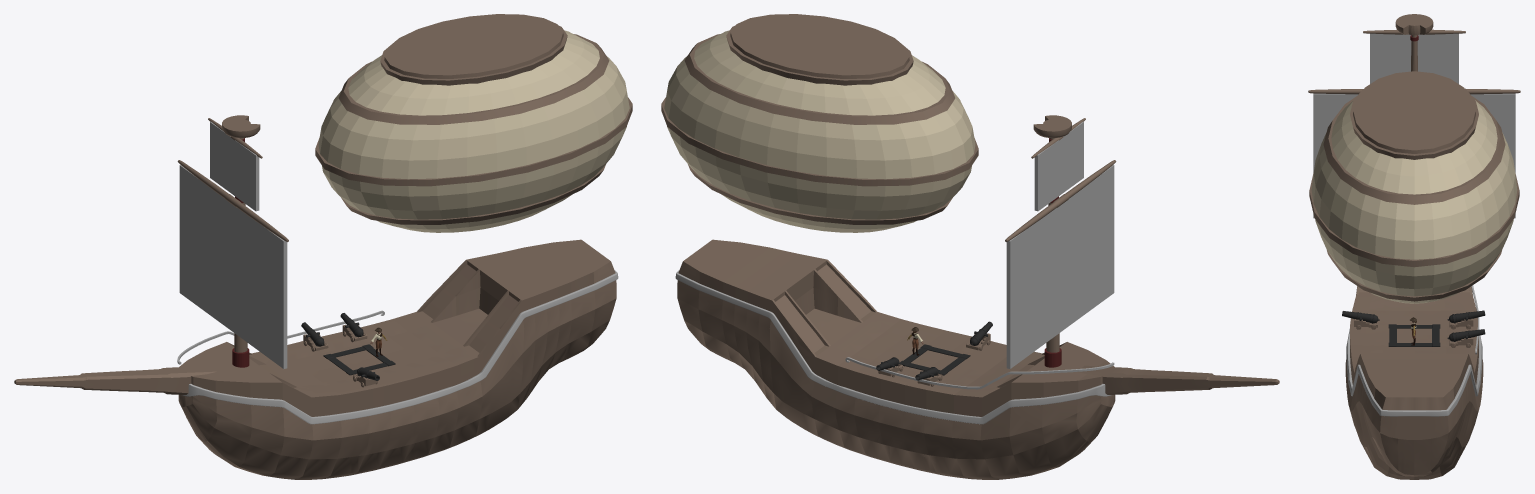
File: ShipTEST.fbx
3 renders of one model, left to right at view 1: azimuth 30°, elevation 25°; view 2: azimuth 150°, elevation 25°; view 3: azimuth 270°, elevation 25°, orthographic. The views are drawn at different scales.
Parts seen in each view (by area): view 1: Newship, Balloon, Sail_1, pasted__Newship, Balloon_Guard1, Outer_Rim, pasted__Balloon_Guard, Pointer, Sail_2, Balloon_Guard, pasted__pasted__Balloon_Guard, Balloon_Guard2 (+3 smaller); view 2: Newship, Balloon, Sail_1, pasted__Newship, Balloon_Guard1, Outer_Rim, pasted__Balloon_Guard, Pointer, Sail_2, Balloon_Guard, pasted__pasted__Balloon_Guard, Balloon_Guard2 (+4 smaller); view 3: Balloon, Newship, Balloon_Guard1, pasted__Newship, Sail_2, pasted__Balloon_Guard, Sail_1, Balloon_Guard, Outer_Rim, Balloon_Guard2, pasted__pasted__Balloon_Guard, Cannon (×3) (+4 smaller).
Part boxes in pixels (left/top/right/bottom): Newship: left=178, top=239, right=616, bottom=479; Balloon: left=318, top=30, right=629, bottom=232; Sail_1: left=179, top=165, right=287, bottom=368; pasted__Newship: left=178, top=245, right=616, bottom=476; Balloon_Guard1: left=384, top=14, right=563, bottom=78; Outer_Rim: left=182, top=270, right=618, bottom=424; pasted__Balloon_Guard: left=338, top=34, right=609, bottom=124; Pointer: left=14, top=365, right=216, bottom=394; Sail_2: left=210, top=121, right=259, bottom=211; Balloon_Guard: left=315, top=97, right=632, bottom=186; pasted__pasted__Balloon_Guard: left=341, top=164, right=605, bottom=224; Balloon_Guard2: left=380, top=26, right=567, bottom=85; Newship: left=677, top=239, right=1114, bottom=479; Balloon: left=664, top=30, right=975, bottom=232; Sail_1: left=1006, top=165, right=1114, bottom=368; pasted__Newship: left=677, top=245, right=1115, bottom=476; Balloon_Guard1: left=730, top=14, right=909, bottom=78; Outer_Rim: left=675, top=270, right=1111, bottom=424; pasted__Balloon_Guard: left=684, top=34, right=955, bottom=124; Pointer: left=1077, top=365, right=1279, bottom=394; Sail_2: left=1034, top=121, right=1083, bottom=211; Balloon_Guard: left=661, top=97, right=978, bottom=186; pasted__pasted__Balloon_Guard: left=688, top=164, right=952, bottom=224; Balloon_Guard2: left=726, top=26, right=913, bottom=85; Balloon: left=1311, top=100, right=1517, bottom=303; Newship: left=1345, top=286, right=1483, bottom=479; Balloon_Guard1: left=1353, top=71, right=1475, bottom=153; pasted__Newship: left=1347, top=286, right=1483, bottom=479; Sail_2: left=1370, top=33, right=1458, bottom=83; pasted__Balloon_Guard: left=1323, top=96, right=1505, bottom=204; Sail_1: left=1313, top=93, right=1515, bottom=218; Balloon_Guard: left=1309, top=173, right=1519, bottom=267; Outer_Rim: left=1346, top=286, right=1482, bottom=416; Balloon_Guard2: left=1350, top=89, right=1478, bottom=159; pasted__pasted__Balloon_Guard: left=1327, top=250, right=1501, bottom=301; Cannon (×3): left=1342, top=310, right=1485, bottom=341.
Bounding box in the file's own units: 2172 × 1327 × 677.
